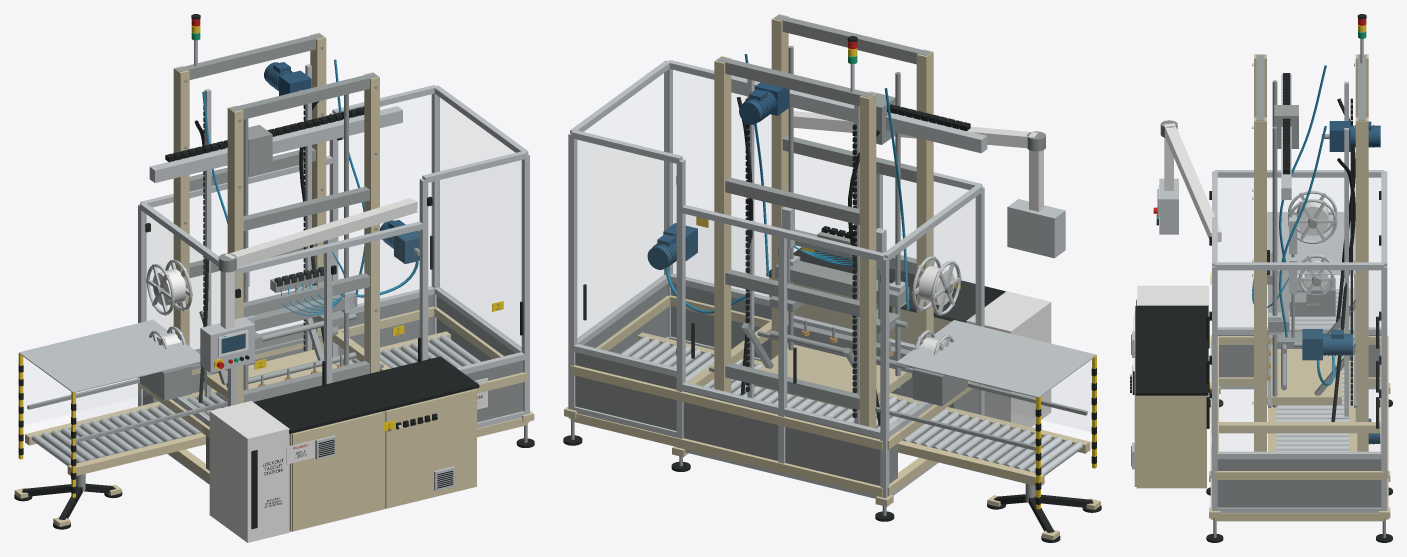
File: senzani.glb
The picture shows the model from 3 angles, left to right: view 1: azimuth 30°, elevation 25°; view 2: azimuth 150°, elevation 25°; view 3: azimuth 270°, elevation 25°; orthographic projection. The views are drawn at different scales.
Parts seen in each view (by area): view 1: Armario bloqueo, Puerta electrica.001, Puerta electrica, Cubierta negra, Techo tunel, Columna torre.002, Brazo superior, Columna torre.001, Brazo HMI, Columna torre, Columna torre.003, Puente torre.006 (+44 smaller); view 2: Techo tunel, Columna torre.001, Columna torre.003, Panel inferior.005, Armario bloqueo, Columna torre, Panel inferior.003, Panel inferior.004, Larguero base.003, Brazo superior, Larguero base.001, Columna torre.002 (+53 smaller); view 3: Armario electrico, Zocalo lateral, Cubierta negra, Columna torre.003, Columna torre.002, Placa proceso, Techo tunel, Travesano base.004, Brazo HMI, Montante lateral.003, Armario bloqueo, Travesano base.005 (+45 smaller).
Part boxes in pixels (x1,y1,x2,y2): Armario bloqueo: (209, 401, 289, 542); Puerta electrica.001: (385, 389, 476, 508); Puerta electrica: (292, 412, 383, 531); Cubierta negra: (253, 356, 479, 433); Techo tunel: (19, 319, 200, 393); Columna torre.002: (364, 72, 379, 373); Brazo superior: (149, 106, 402, 182); Columna torre.001: (173, 66, 189, 345); Brazo HMI: (224, 198, 417, 267); Columna torre: (227, 105, 243, 406); Columna torre.003: (310, 33, 326, 353); Puente torre.006: (230, 73, 377, 119); Techo tunel: (896, 320, 1096, 397); Columna torre.001: (859, 91, 876, 428); Columna torre.003: (714, 56, 731, 392); Panel inferior.005: (575, 352, 676, 430); Armario bloqueo: (966, 291, 1051, 426); Columna torre: (916, 49, 933, 341); Panel inferior.003: (785, 415, 880, 485); Panel inferior.004: (683, 391, 778, 460); Larguero base.003: (570, 365, 882, 450); Brazo superior: (731, 75, 987, 153); Larguero base.001: (570, 413, 882, 496); Columna torre.002: (771, 14, 788, 359); Armario electrico: (1136, 395, 1206, 488); Zocalo lateral: (1217, 459, 1381, 507); Cubierta negra: (1135, 306, 1208, 395); Columna torre.003: (1355, 117, 1368, 451); Columna torre.002: (1254, 117, 1266, 451); Placa proceso: (1267, 347, 1341, 404); Techo tunel: (1267, 212, 1355, 274); Travesano base.004: (1217, 422, 1381, 433); Brazo HMI: (1164, 123, 1221, 242); Montante lateral.003: (1381, 266, 1387, 510); Armario bloqueo: (1137, 285, 1208, 396); Travesano base.005: (1215, 471, 1384, 479).
Size of the model in its own units: 3.73 by 3.45 by 2.01.
